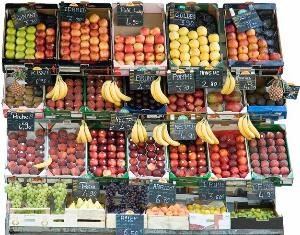apple: (57, 8, 111, 62), (169, 22, 223, 72), (113, 20, 165, 70), (226, 19, 282, 65), (168, 87, 209, 118), (35, 11, 59, 56), (8, 21, 34, 61)
apricot: (149, 202, 188, 222)
avocado: (246, 74, 288, 108)
banana: (131, 118, 181, 149), (182, 114, 222, 146), (101, 77, 133, 111), (235, 110, 263, 144), (214, 66, 244, 94), (144, 76, 172, 104), (44, 74, 70, 102), (72, 119, 94, 145)
grape: (9, 180, 68, 222), (106, 180, 148, 222)
kiwi: (4, 82, 44, 110)
mango: (207, 86, 245, 118)
peach: (81, 128, 127, 176), (49, 127, 87, 180), (167, 133, 209, 179), (128, 134, 170, 180), (4, 128, 44, 174), (87, 76, 125, 114), (47, 76, 83, 114)
pear: (66, 198, 106, 222)
pineapple: (8, 68, 32, 96)
plum: (209, 130, 251, 182), (250, 127, 290, 181), (126, 85, 164, 115), (232, 204, 278, 228), (189, 195, 229, 221)
